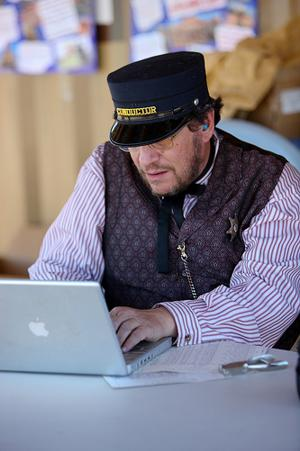person: (29, 49, 300, 354)
